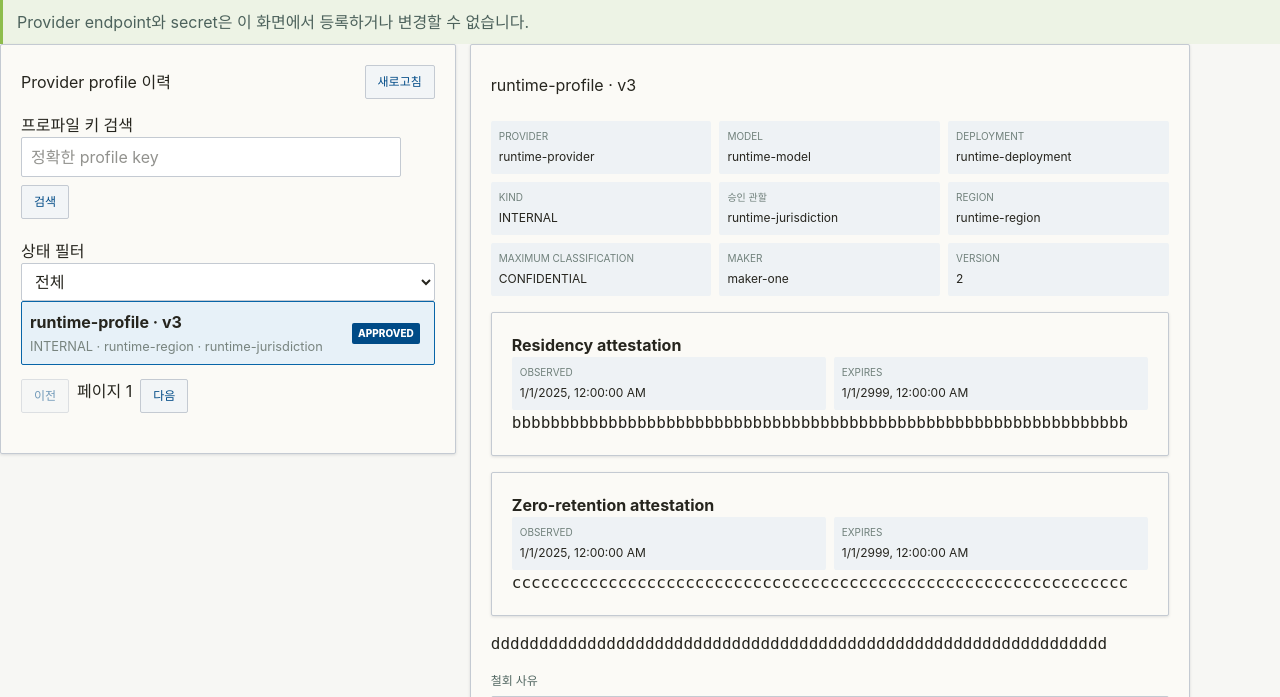
Test: InferenceProviderProfileAdmin › binds an exact profile-key filter and resets a cursor page to the first page
Expected: the text "runtime-provider" is shown, x1=499 y1=149 x2=594 y2=164
Click the button "다음". click: [164, 396]
box: x1=140 y1=379 x2=188 y2=413
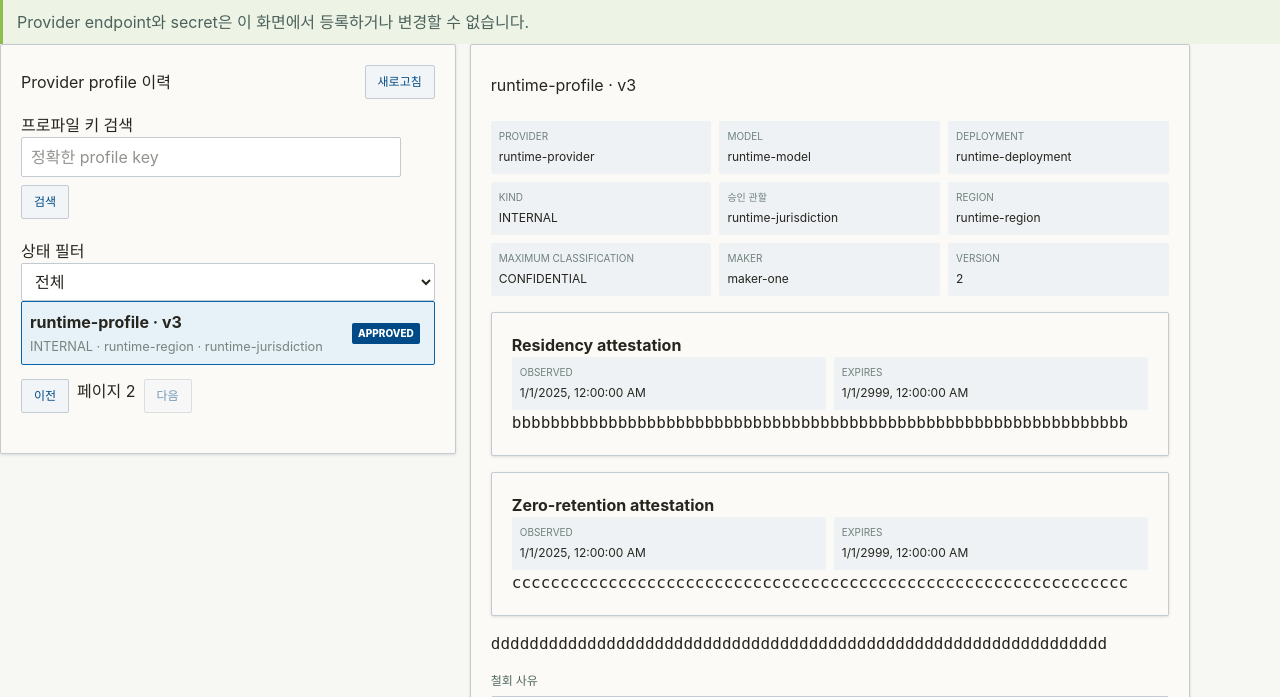
Type " approved-chat " into the search field labelled "프로파일 키 검색". click: [211, 157]
box: x1=21 y1=137 x2=401 y2=177
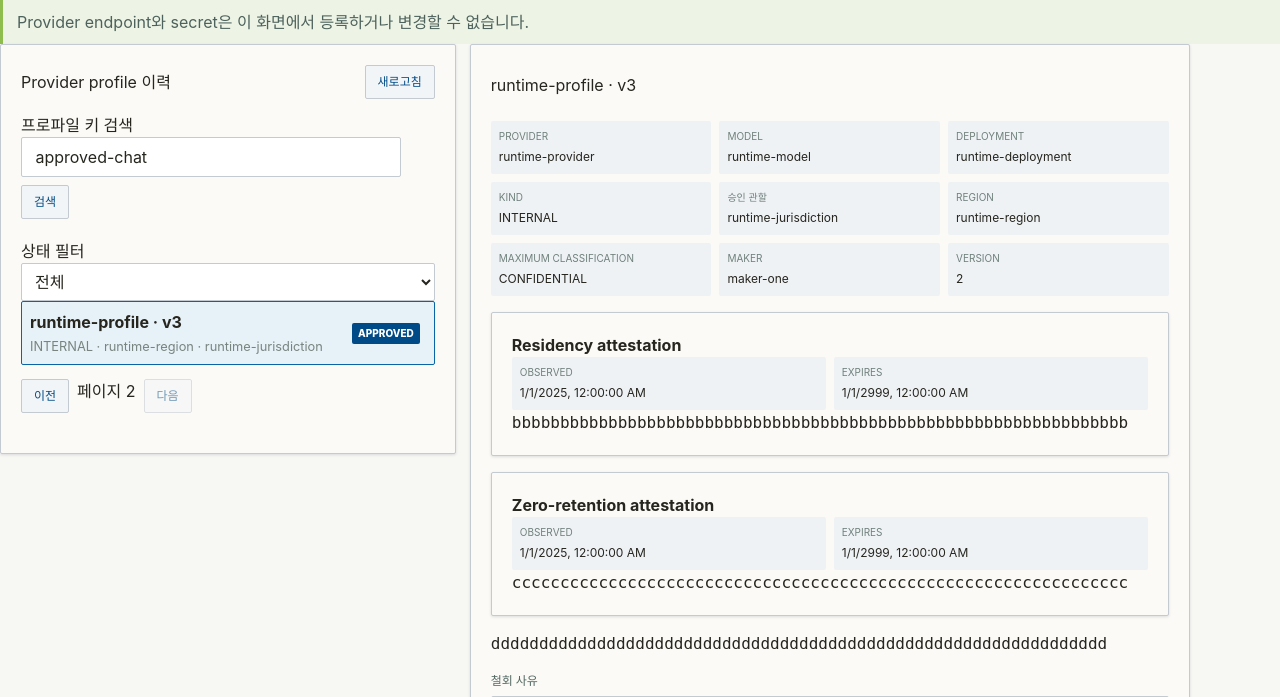
Click the button "검색". click: [45, 202]
box: x1=21 y1=185 x2=69 y2=219
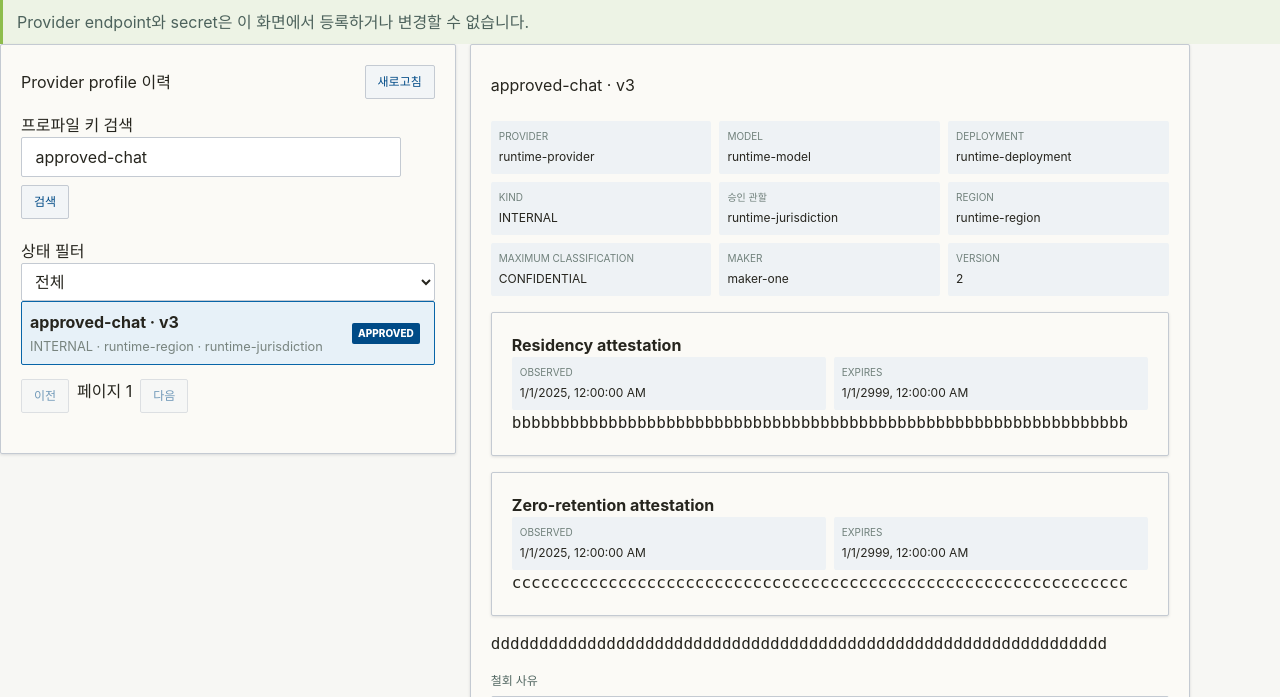
Expected: the text "approved-chat · v3" is shown, x1=30 y1=312 x2=179 y2=332
Expected: the text "페이지 1" is shown, x1=77 y1=381 x2=132 y2=401
